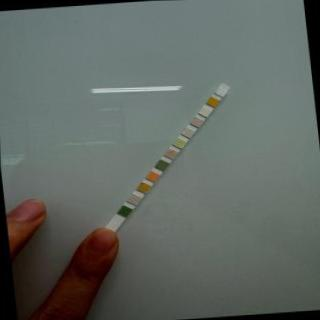mark: (137, 182, 149, 194), (146, 170, 158, 182), (128, 194, 139, 205), (119, 206, 130, 216), (216, 86, 227, 96), (174, 138, 184, 148), (200, 106, 210, 116), (157, 160, 166, 170), (191, 117, 201, 126), (208, 96, 217, 105), (166, 150, 176, 158), (182, 128, 192, 136)
